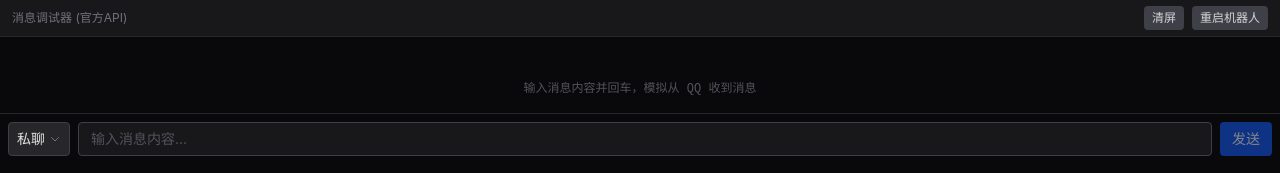
Test: ConsolePanel - 官方 API 消息调试器 › 默认按私聊注入，并把回显写进控制台
This screenshot has width=1280, height=173.
Type "你好" into the field named "测试消息输入框" at x=645, y=139, box [78,122,1212,156]
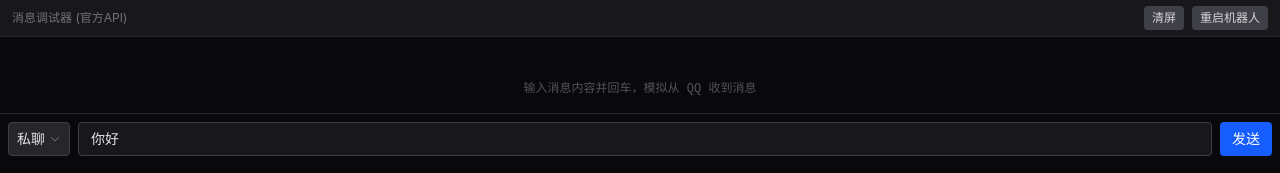
Click the button "发送" at x=1246, y=139, box [1220,122,1272,156]
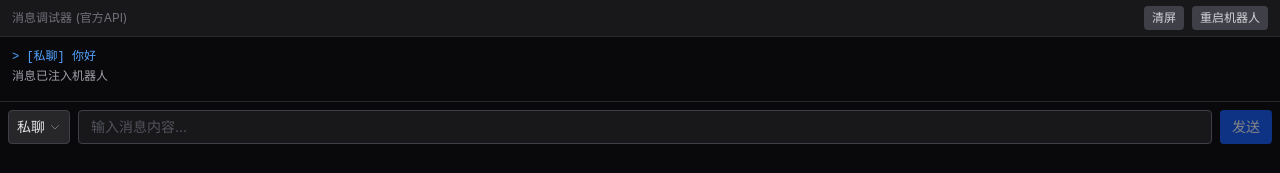
Now the text "> [私聊] 你好" is shown, box [12,50,96,64]
Now the text "消息已注入机器人" is shown, box [12,70,108,84]
Now the field named "测试消息输入框" is empty, box [78,110,1212,144]
